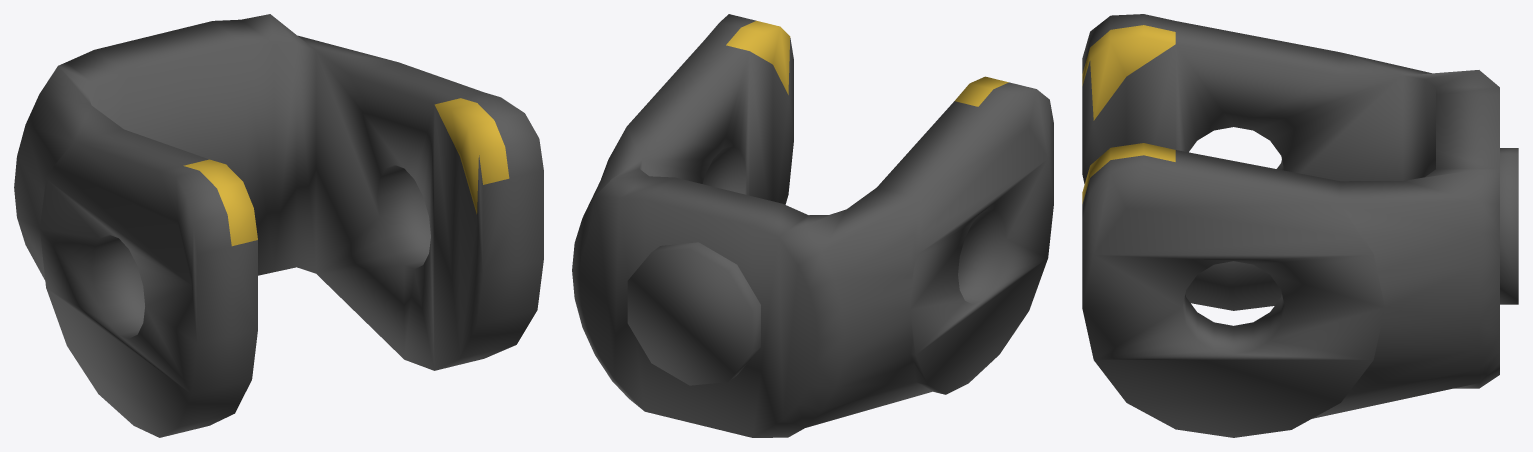
File: d10_left.obj
3 renders of one model, left to right at view 1: azimuth 30°, elevation 25°; view 2: azimuth 150°, elevation 25°; view 3: azimuth 270°, elevation 25°, orthographic. The views are drawn at different scales.
Visible parts, largest first — view 1: d0; view 2: d0; view 3: d0.
Boxes of the visible parts, box(x1,y1,x2,y2) form: d0: box(14, 14, 543, 437); d0: box(572, 14, 1053, 437); d0: box(1082, 14, 1518, 437).
Size of the model in its own units: 0.0303 by 0.0238 by 0.0344.
